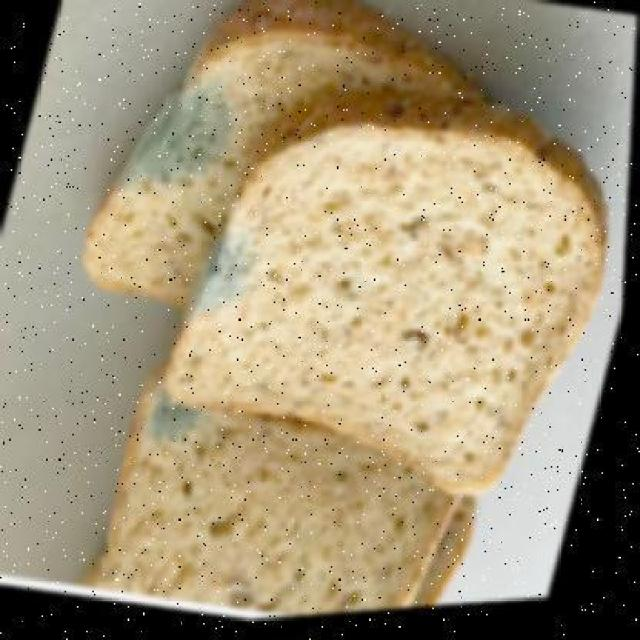Wet: (113, 1, 578, 640)
